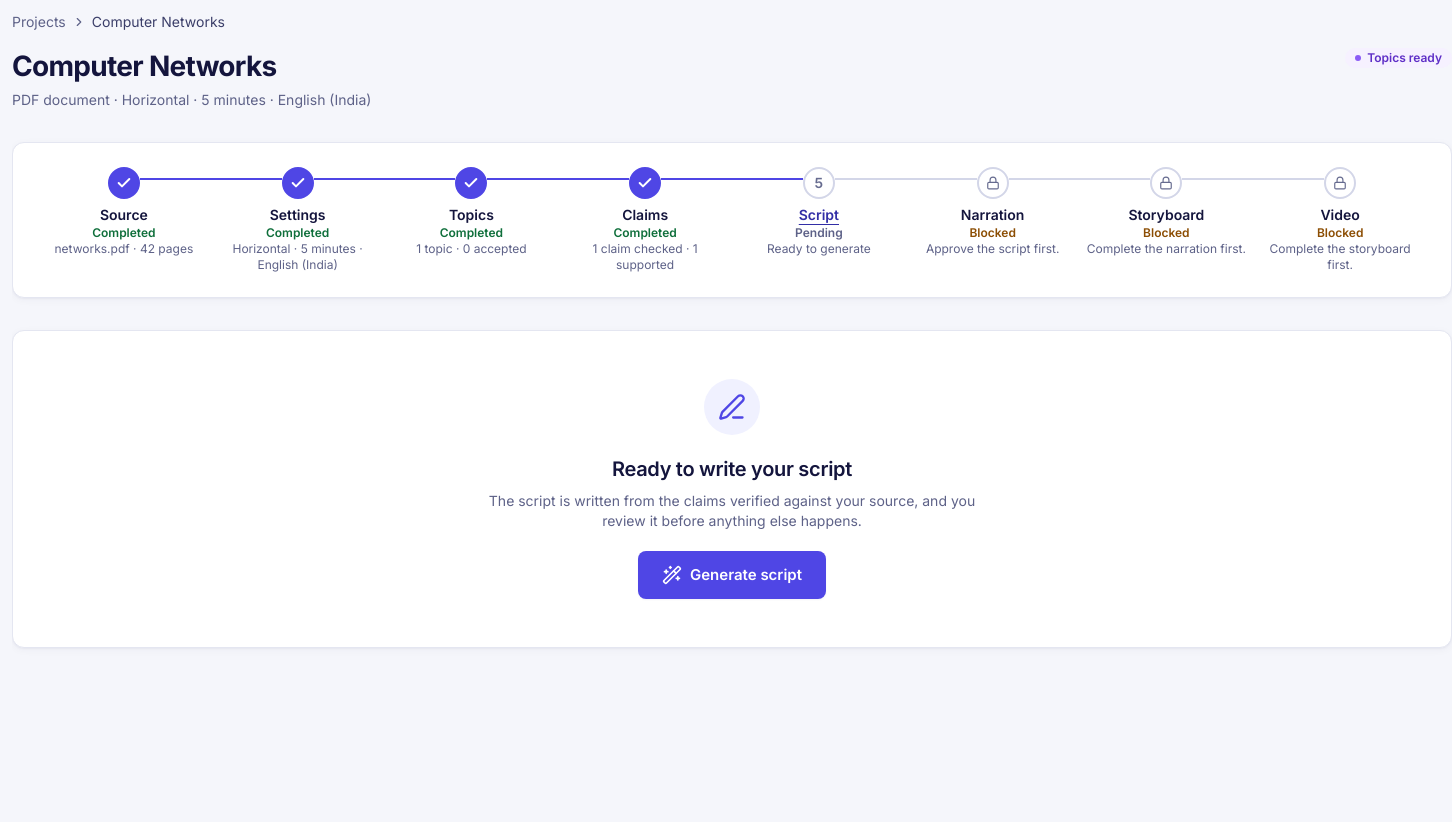
Test: Script step › shows any other refusal in its own words, never as "no verified claims"
This screenshot has width=1452, height=822.
Click the button "Generate script". click: [732, 575]
box: [638,551,826,599]
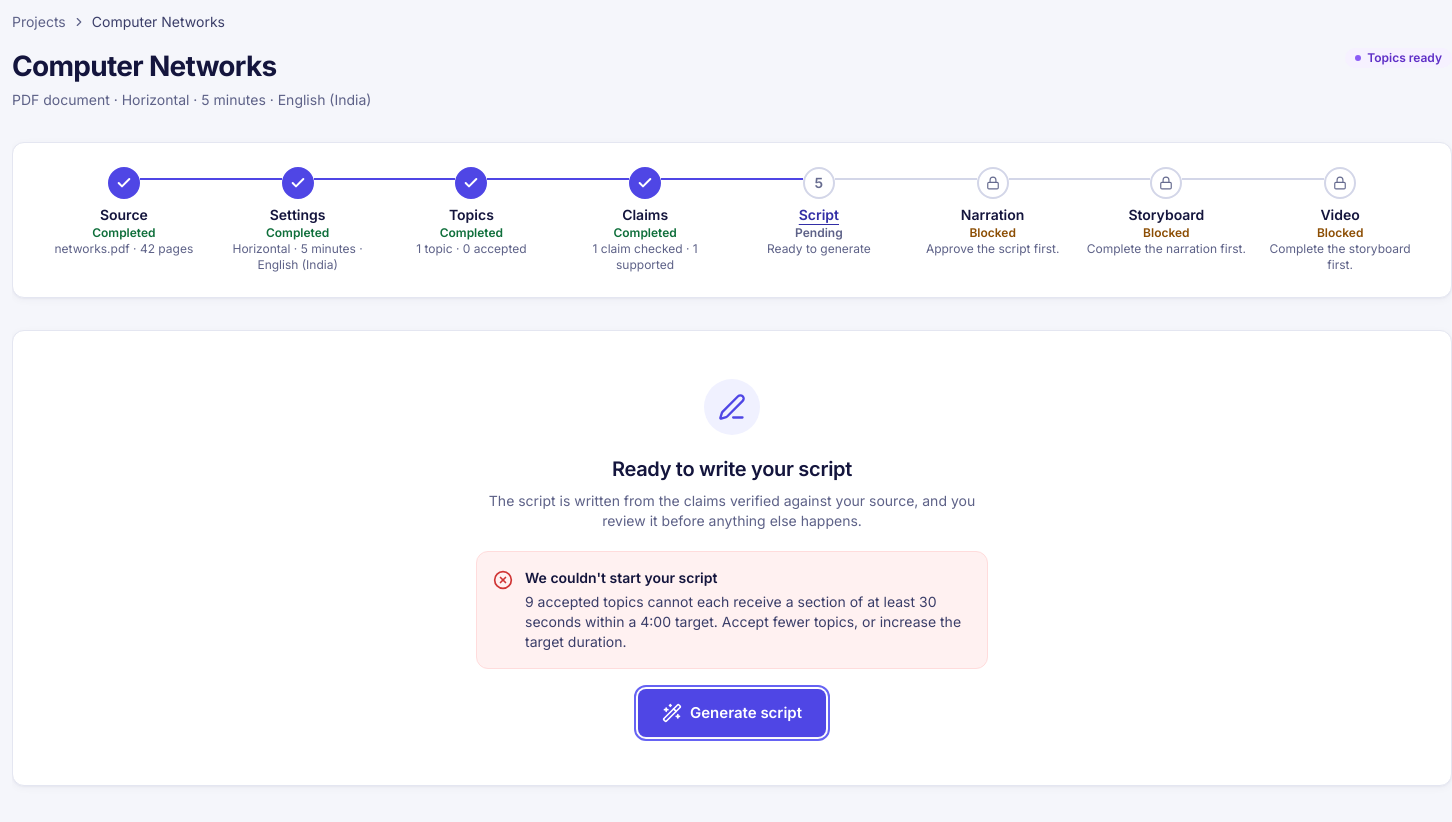
Expected: the button "Generate script" is shown, [638,689,826,737]
Expected: the text "9 accepted topics cannot each receive a section" is shown, [525,593,961,650]
